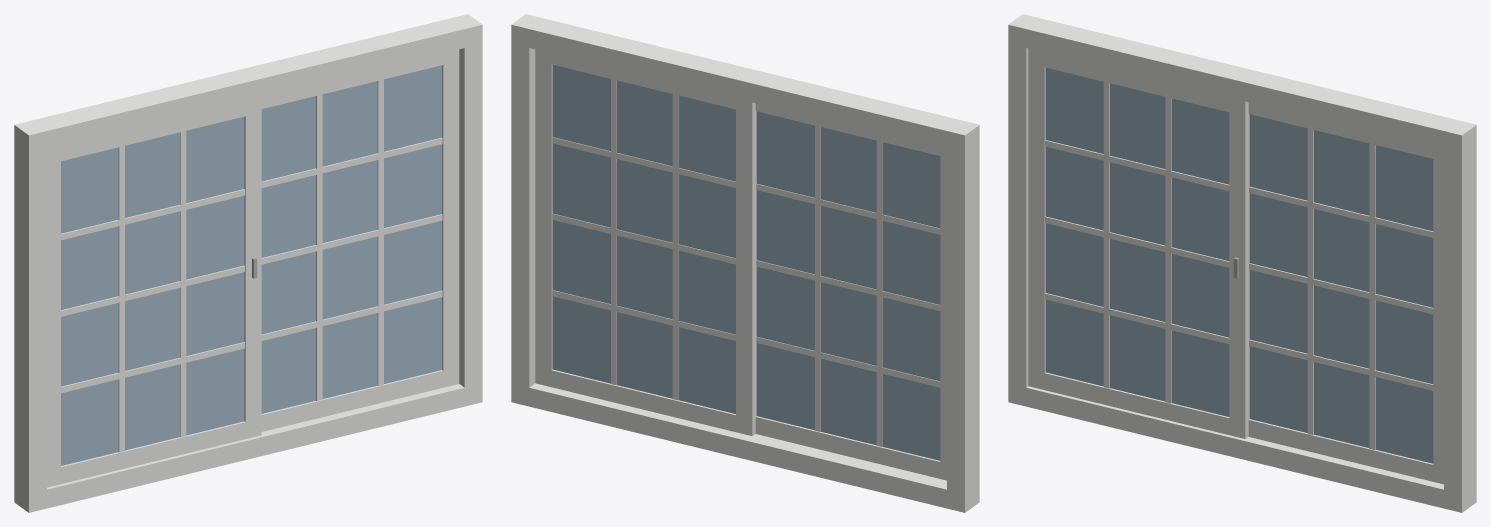
The picture shows the model from 3 angles, left to right: view 1: azimuth 30°, elevation 25°; view 2: azimuth 150°, elevation 25°; view 3: azimuth 330°, elevation 25°; orthographic projection.
Parts seen in each view (by area): view 1: glass, frame, sash, grid; view 2: glass, frame, sash, grid; view 3: glass, frame, sash, grid.
Boxes of the visible parts, x1,y1,x2,y2 form: glass: (61, 65, 441, 465); frame: (14, 14, 482, 512); sash: (47, 49, 459, 487); grid: (61, 79, 442, 452); glass: (552, 65, 940, 460); frame: (511, 14, 979, 512); sash: (535, 49, 946, 480); grid: (552, 79, 940, 446); glass: (1045, 67, 1433, 463); frame: (1008, 14, 1476, 512); sash: (1028, 48, 1443, 484); grid: (1045, 82, 1433, 449).
Bounding box in the file's own units: 1.49 × 1.18 × 0.083.
